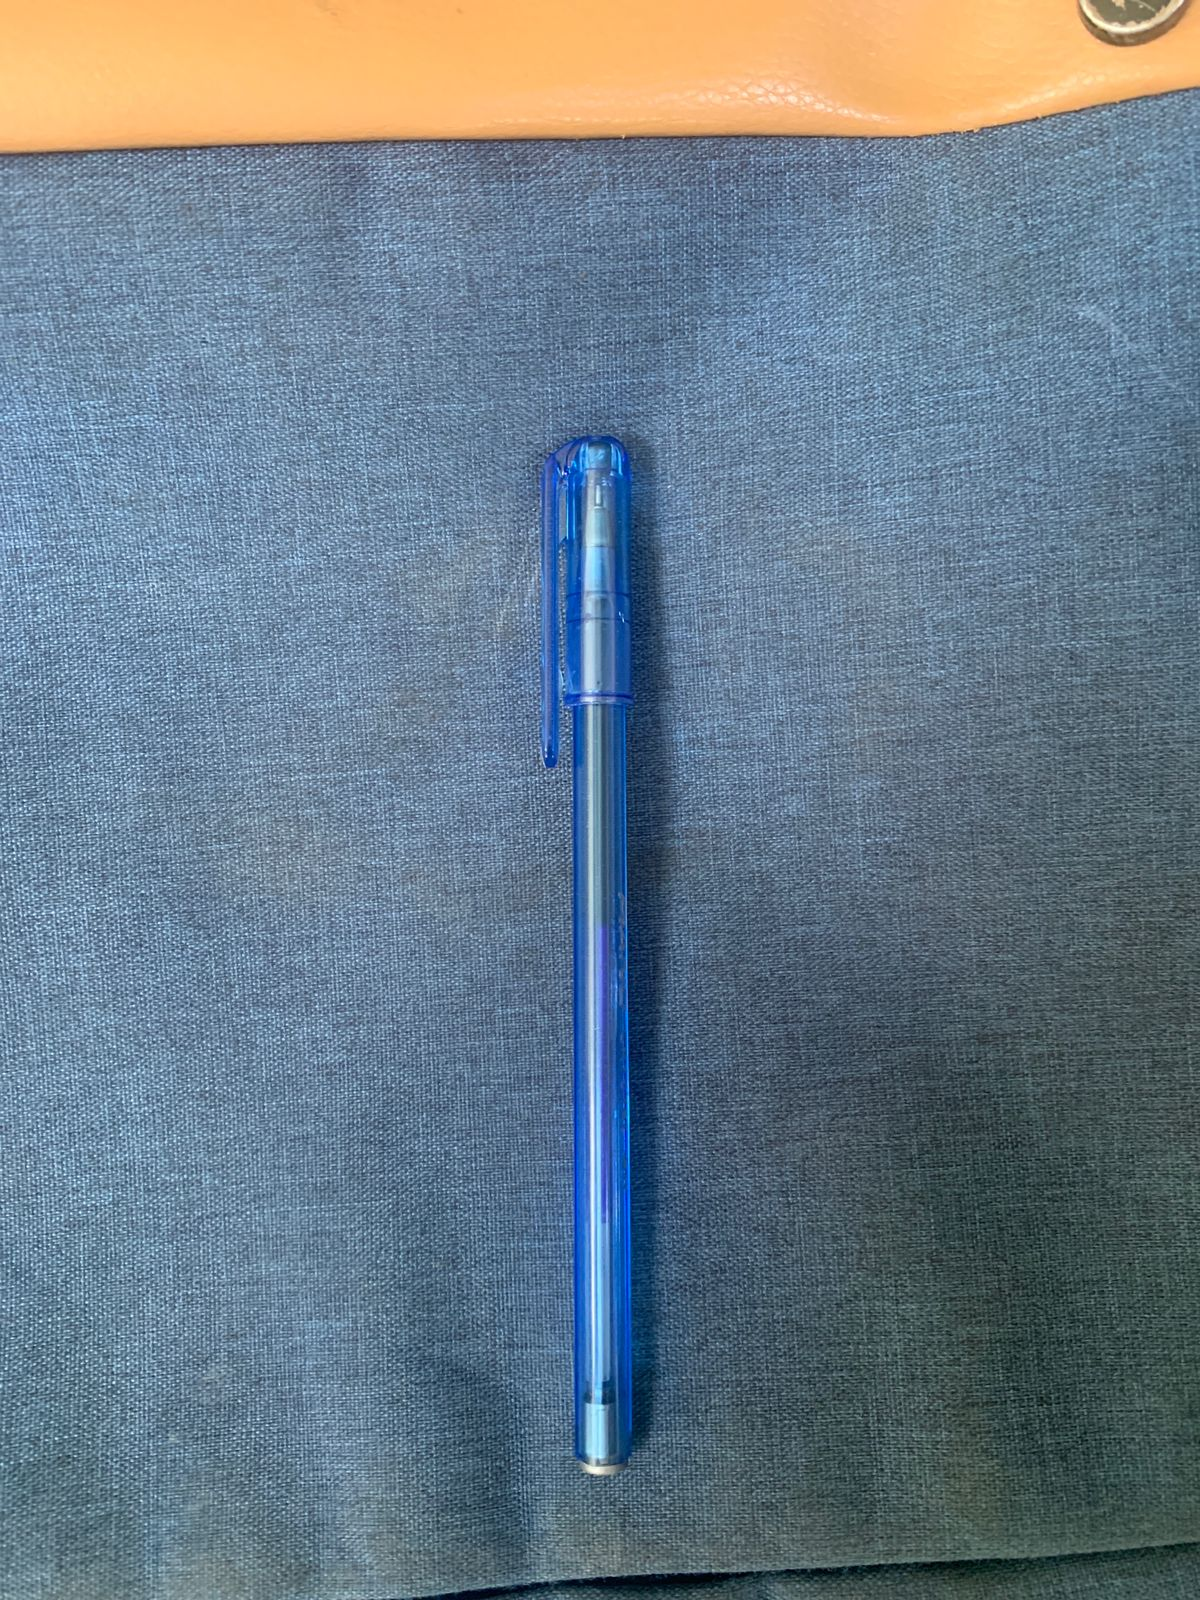pen: (402, 346, 839, 1529)
